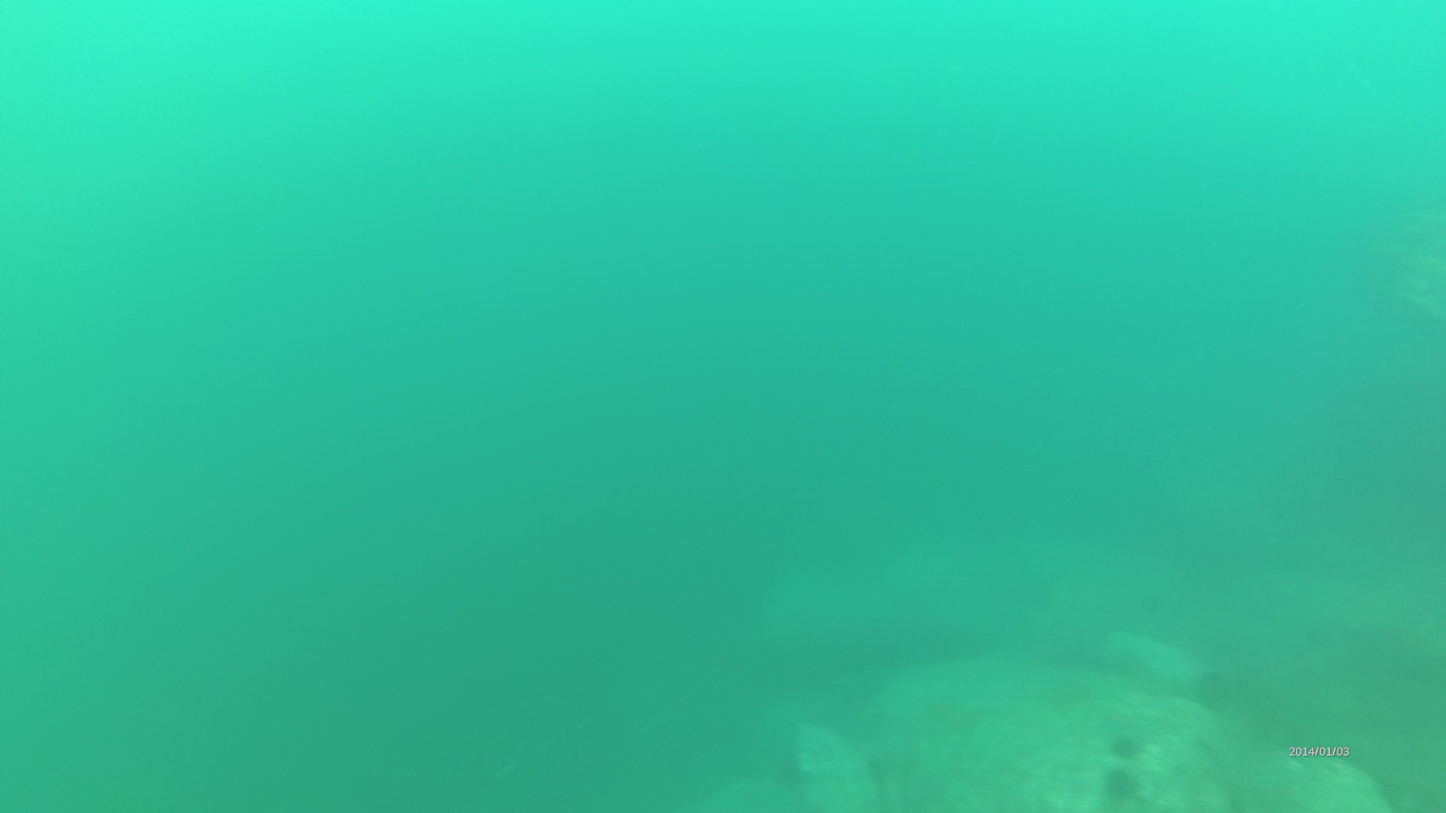starfish: (1193, 667, 1234, 710), (1103, 765, 1139, 802), (1104, 732, 1141, 760)
